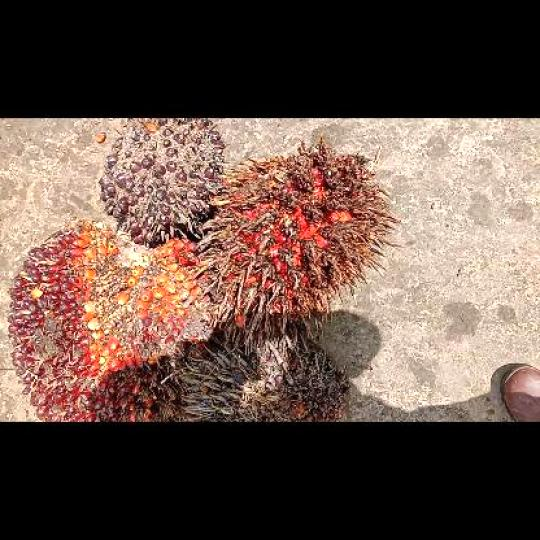kurang masak: (100, 118, 226, 244)
masak: (8, 220, 197, 421)
terlalu masak: (200, 137, 396, 354)
